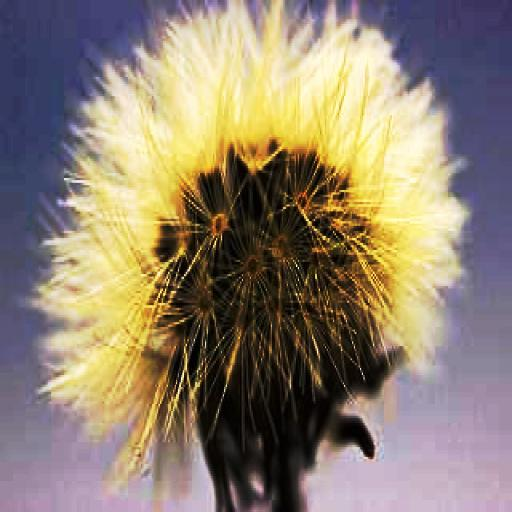dandelion: (10, 0, 502, 511)
